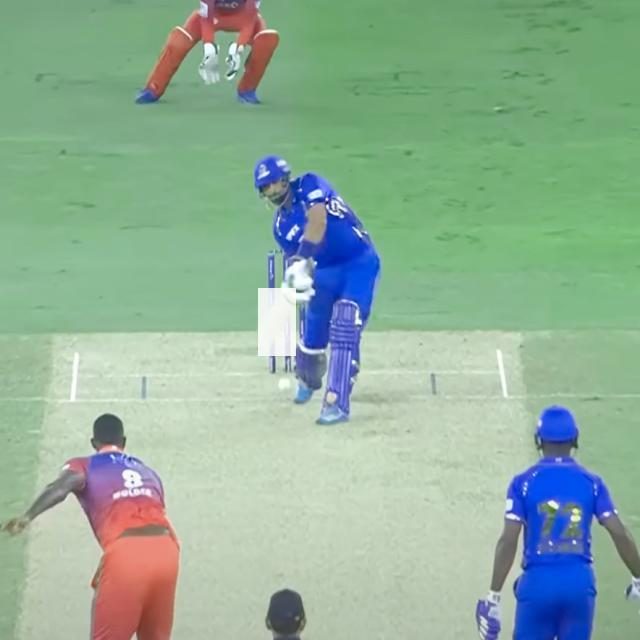bat: (255, 284, 296, 357)
